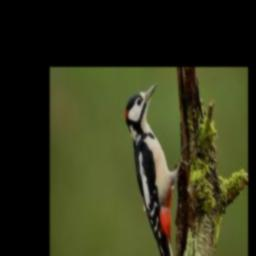Woodpecker: (126, 82, 191, 256)
